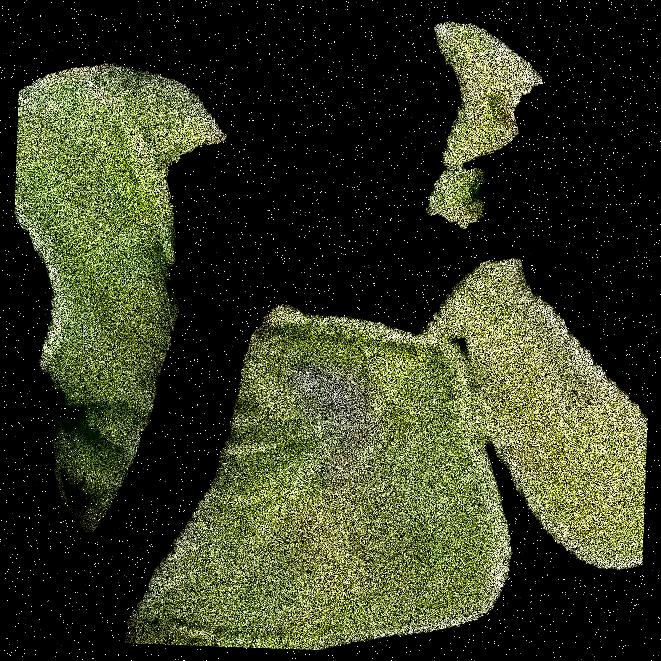Colete: (466, 0, 552, 660)
